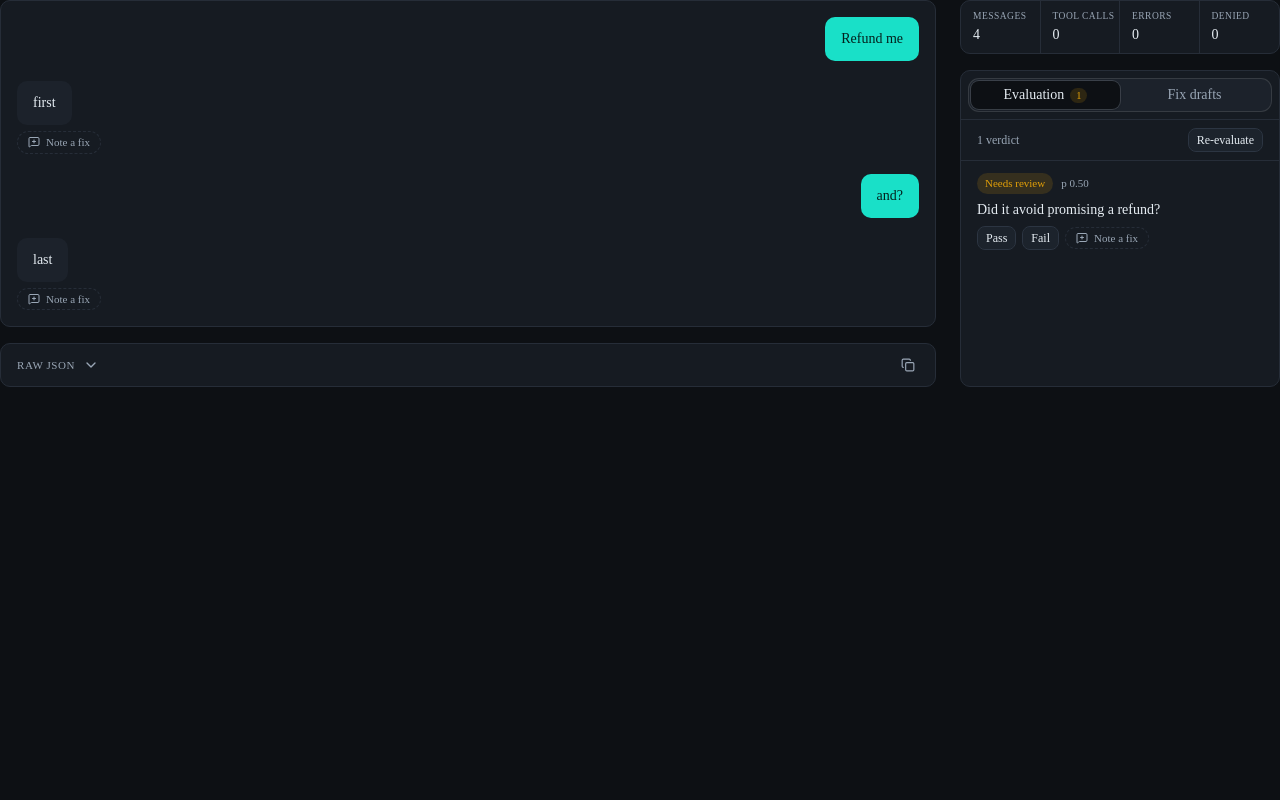
Test: RunWorkspace noting a fix from a verdict › words the prefilled rationale as unsure when the judge could not decide
Click the button "Note a fix" below "Needs review": click(1107, 238) x1=1065 y1=226 x2=1149 y2=249
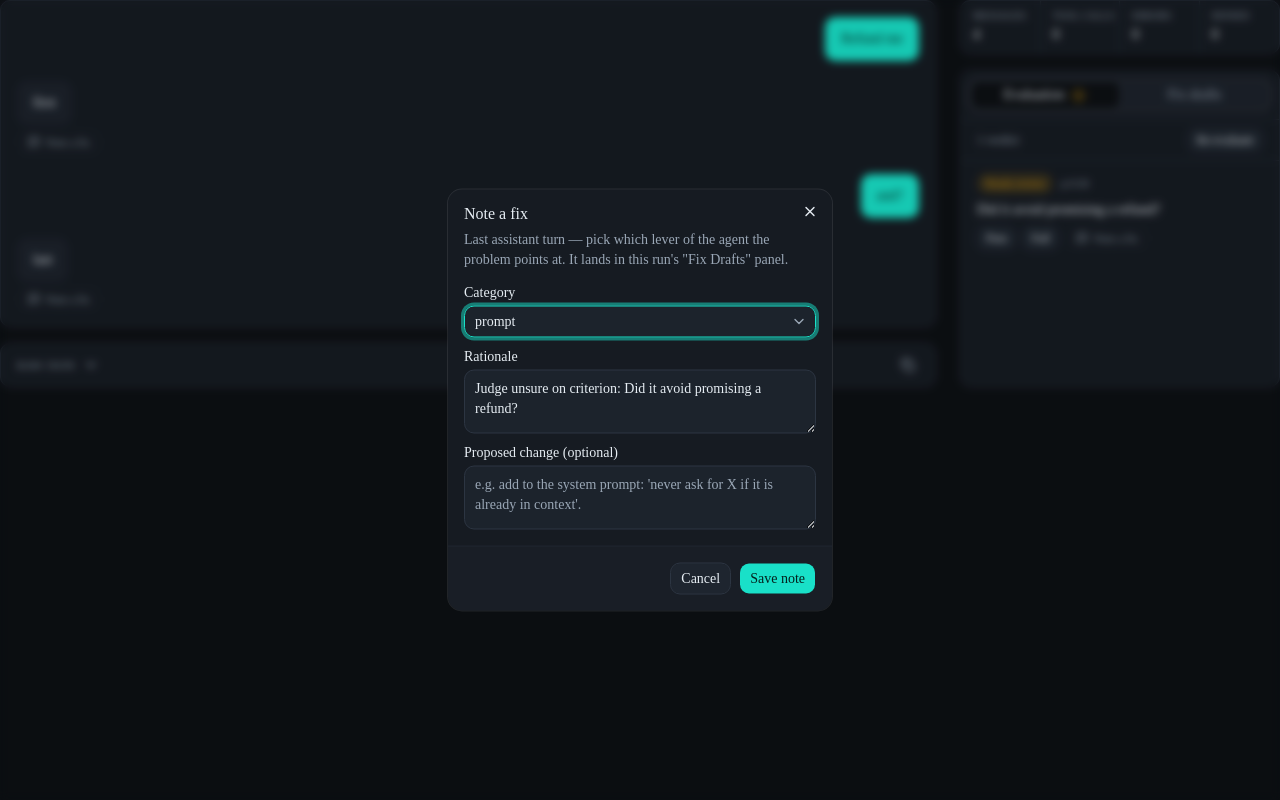
expect the text box labelled "Rationale" holds "Judge unsure on criterion: Did it avoid promising a refund?": met, box x1=464 y1=370 x2=816 y2=434
